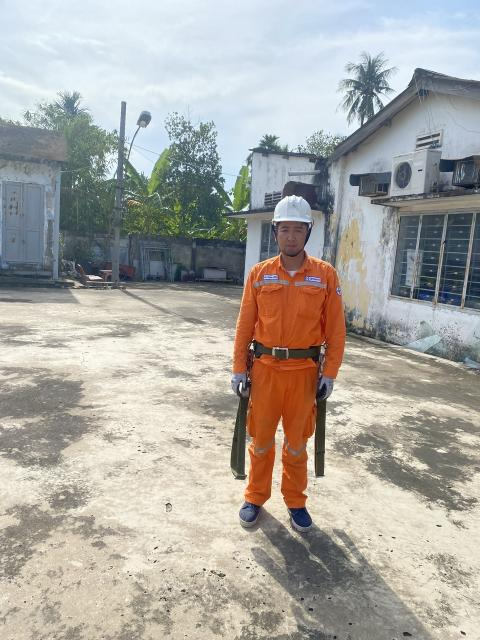gloves: (312, 370, 343, 407), (223, 368, 253, 404)
harness: (225, 331, 339, 367)
helmet: (259, 192, 328, 230)
shoes: (281, 487, 323, 540), (229, 493, 274, 533)
